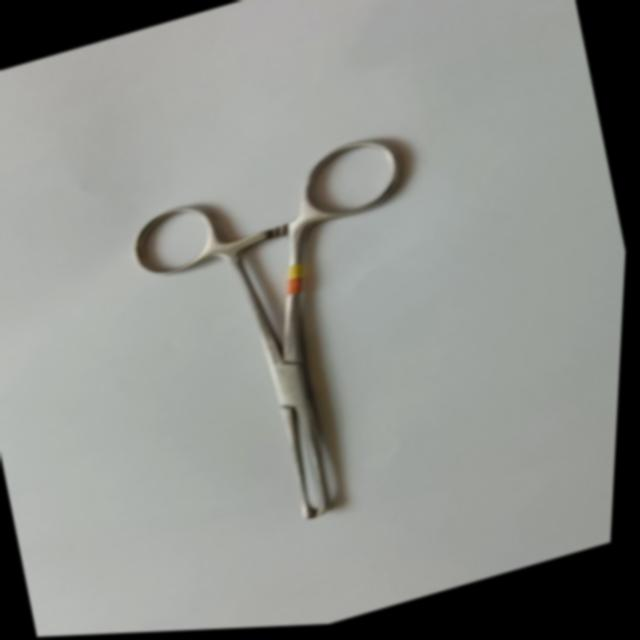AllisForcep: (110, 129, 482, 558)
